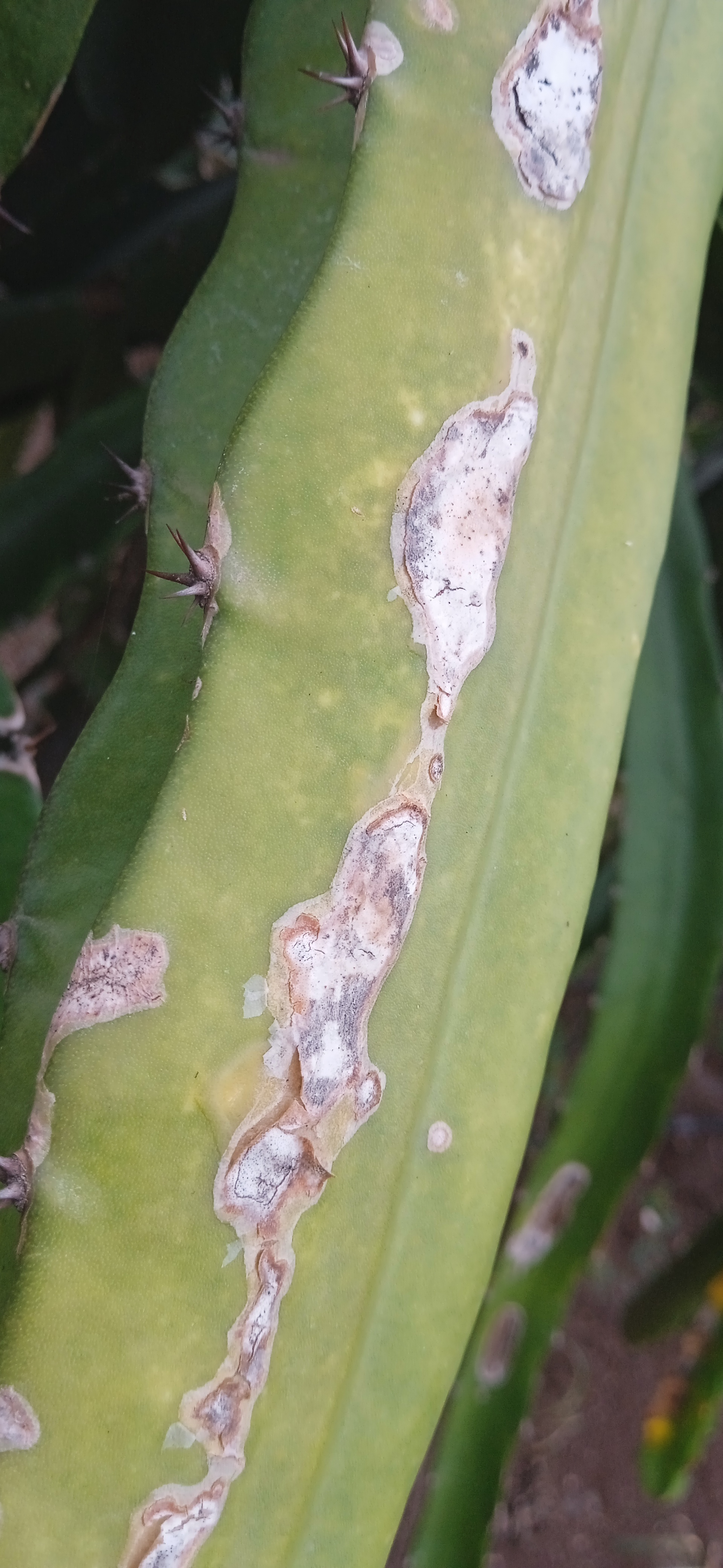stemcanker: (200, 760, 444, 1262), (387, 325, 542, 741), (161, 1233, 294, 1476), (482, 1, 616, 217), (34, 919, 174, 1085), (116, 1465, 236, 1568)
